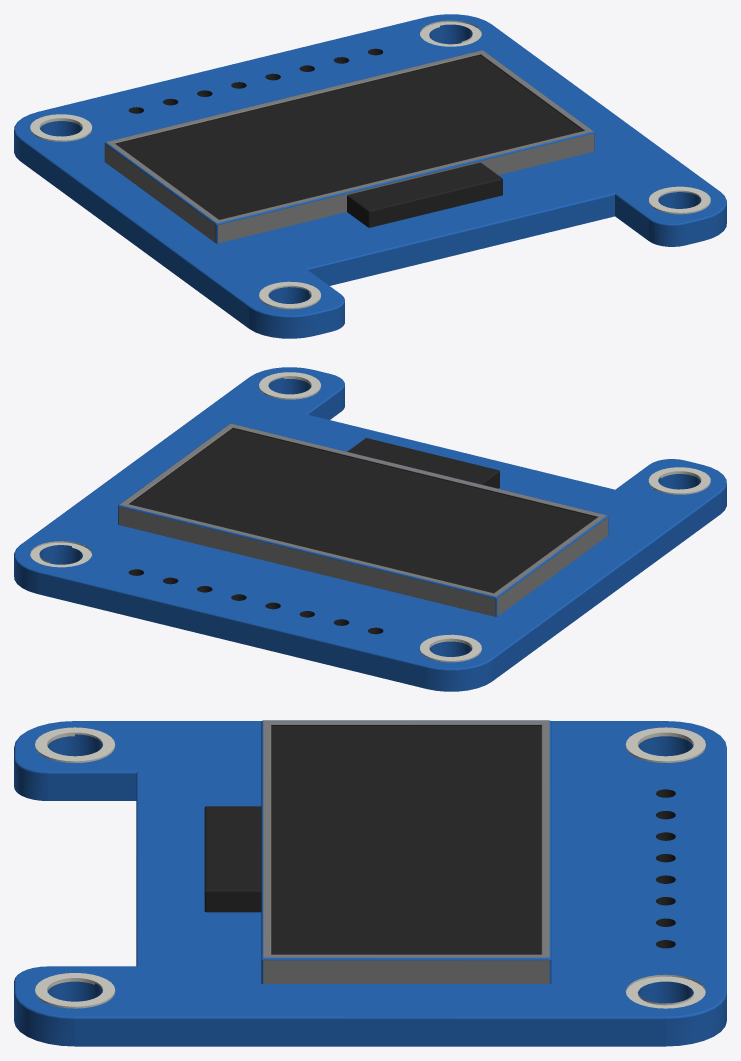
Rendered from kc-adafruit_ssd1306.glb.
3 renders of one model, top to bottom at view 1: azimuth 30°, elevation 25°; view 2: azimuth 150°, elevation 25°; view 3: azimuth 270°, elevation 25°, orthographic. The views are drawn at different scales.
Visible parts, largest first — view 1: 0_0.16666666666666666_0.5_0, 0_0_0_0, 0.25_0.25_0.25_0, 0.6666666666666666_0.6666666666666666_0.5833333333333334_0.8; view 2: 0_0.16666666666666666_0.5_0, 0_0_0_0, 0.25_0.25_0.25_0, 0.6666666666666666_0.6666666666666666_0.5833333333333334_0.8; view 3: 0_0.16666666666666666_0.5_0, 0_0_0_0, 0.25_0.25_0.25_0, 0.6666666666666666_0.6666666666666666_0.5833333333333334_0.8.
Boxes of the visible parts, box(x1,y1,x2,y2) form: 0_0.16666666666666666_0.5_0: box(14, 14, 726, 338); 0_0_0_0: box(115, 48, 584, 227); 0.25_0.25_0.25_0: box(104, 50, 594, 243); 0.6666666666666666_0.6666666666666666_0.5833333333333334_0.8: box(30, 20, 710, 309); 0_0.16666666666666666_0.5_0: box(14, 367, 726, 691); 0_0_0_0: box(128, 428, 597, 634); 0.25_0.25_0.25_0: box(118, 423, 608, 616); 0.6666666666666666_0.6666666666666666_0.5833333333333334_0.8: box(30, 372, 710, 662); 0_0.16666666666666666_0.5_0: box(14, 720, 726, 1046); 0_0_0_0: box(204, 725, 675, 954); 0.25_0.25_0.25_0: box(263, 720, 549, 983); 0.6666666666666666_0.6666666666666666_0.5833333333333334_0.8: box(35, 727, 705, 1008).
Bounding box in the file's own units: 3.51 × 0.3 × 3.56.
